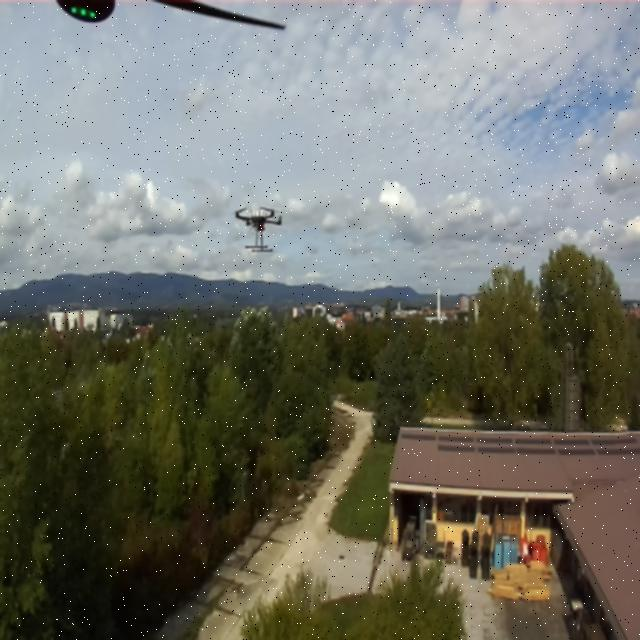UAV: (231, 196, 287, 253)
